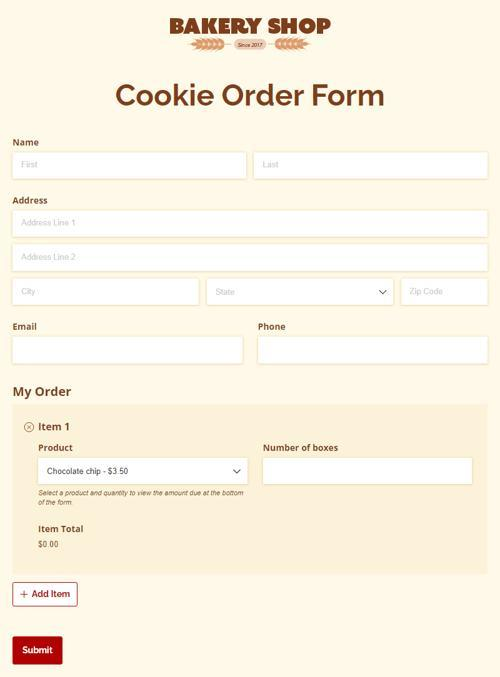button: (13, 637, 64, 666), (14, 584, 78, 607)
dropdown: (39, 459, 250, 485), (207, 279, 395, 307)
input: (13, 212, 490, 238), (13, 246, 490, 272), (259, 336, 487, 365), (254, 154, 490, 180), (13, 154, 248, 180), (11, 339, 244, 365), (263, 459, 474, 485), (12, 280, 199, 305), (402, 280, 490, 307)
label: (109, 75, 388, 115), (12, 386, 75, 400), (262, 443, 341, 454), (38, 421, 72, 434), (12, 197, 51, 207), (38, 444, 77, 454), (13, 138, 42, 149), (258, 322, 288, 332), (12, 322, 39, 333)
